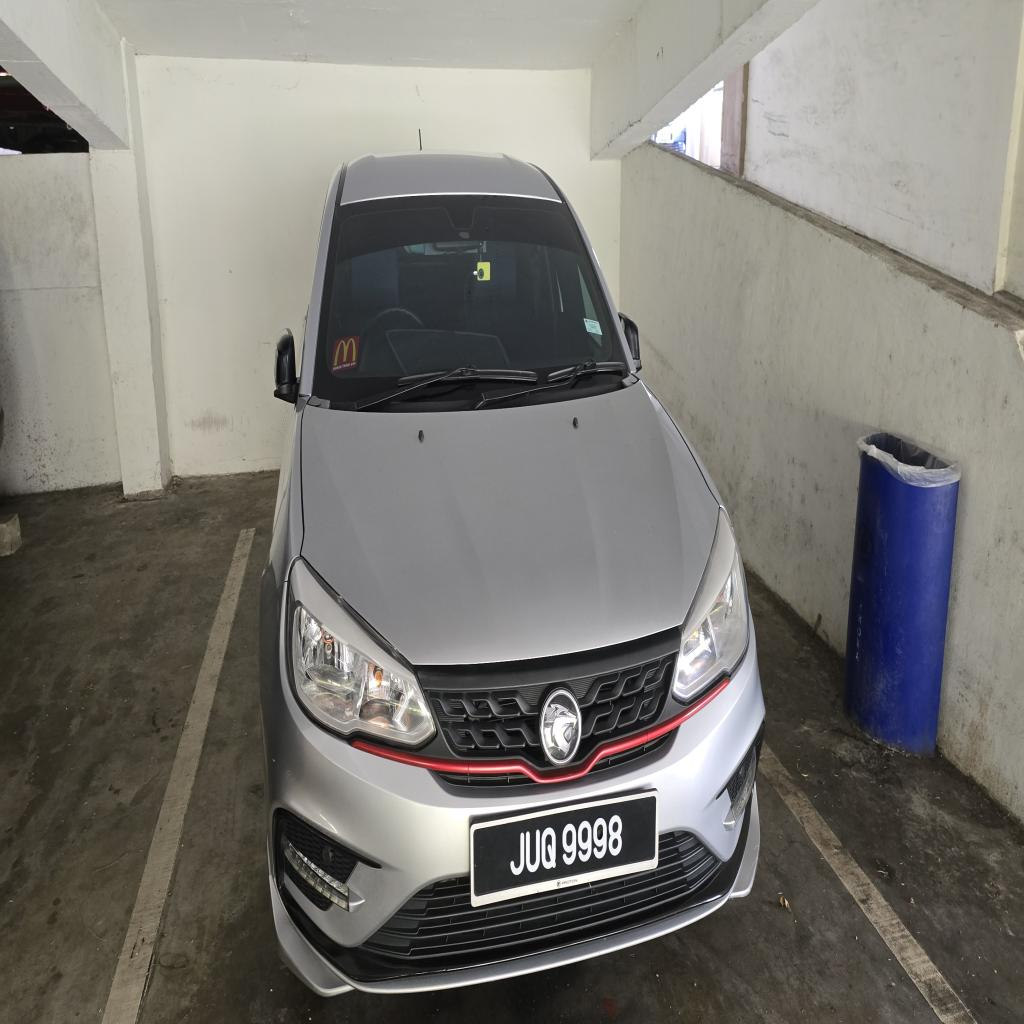car: (261, 154, 764, 994)
car plate: (471, 791, 658, 906)
